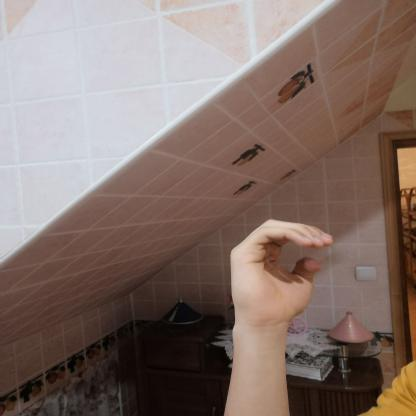JEEM: (216, 209, 344, 330)
